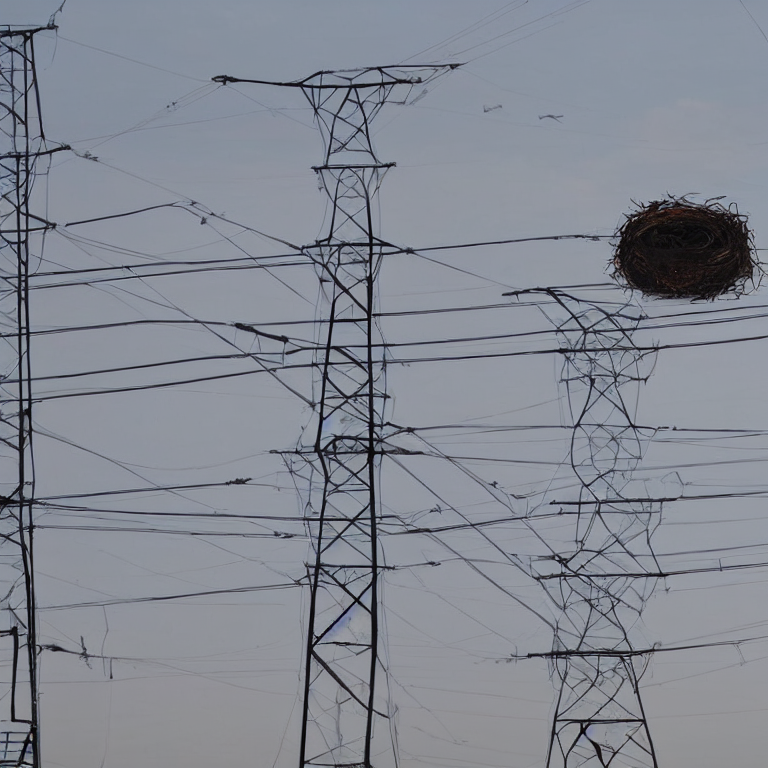nest: (612, 204, 754, 303)
